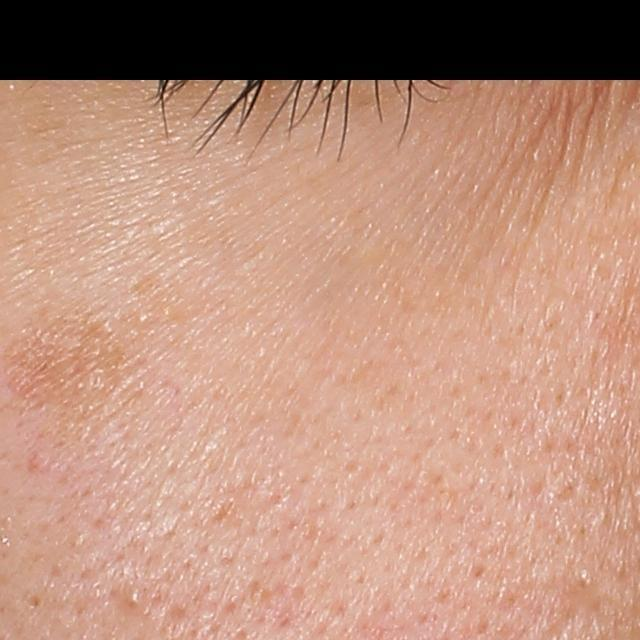comedo: (121, 586, 148, 621)
